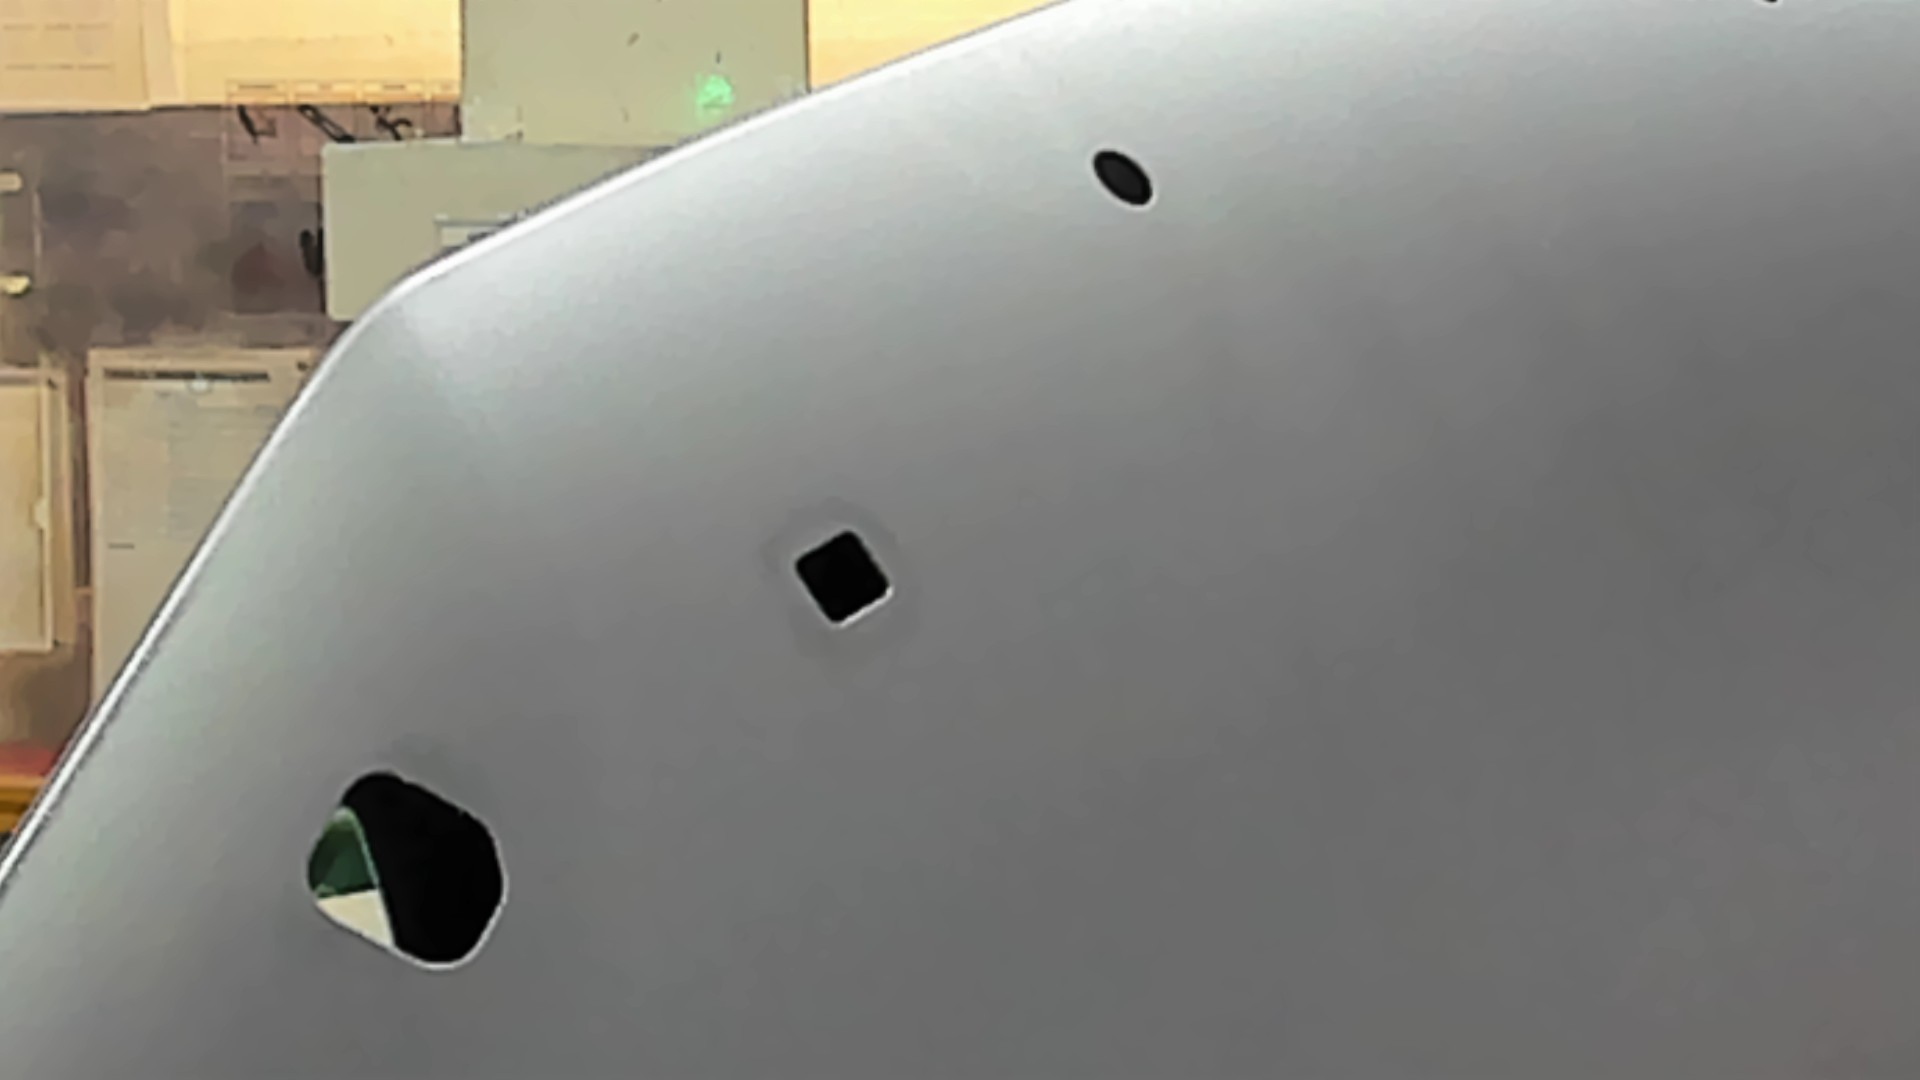chico: (1077, 145, 1164, 218)
grande: (280, 756, 525, 982)
mediano: (779, 516, 909, 636)
